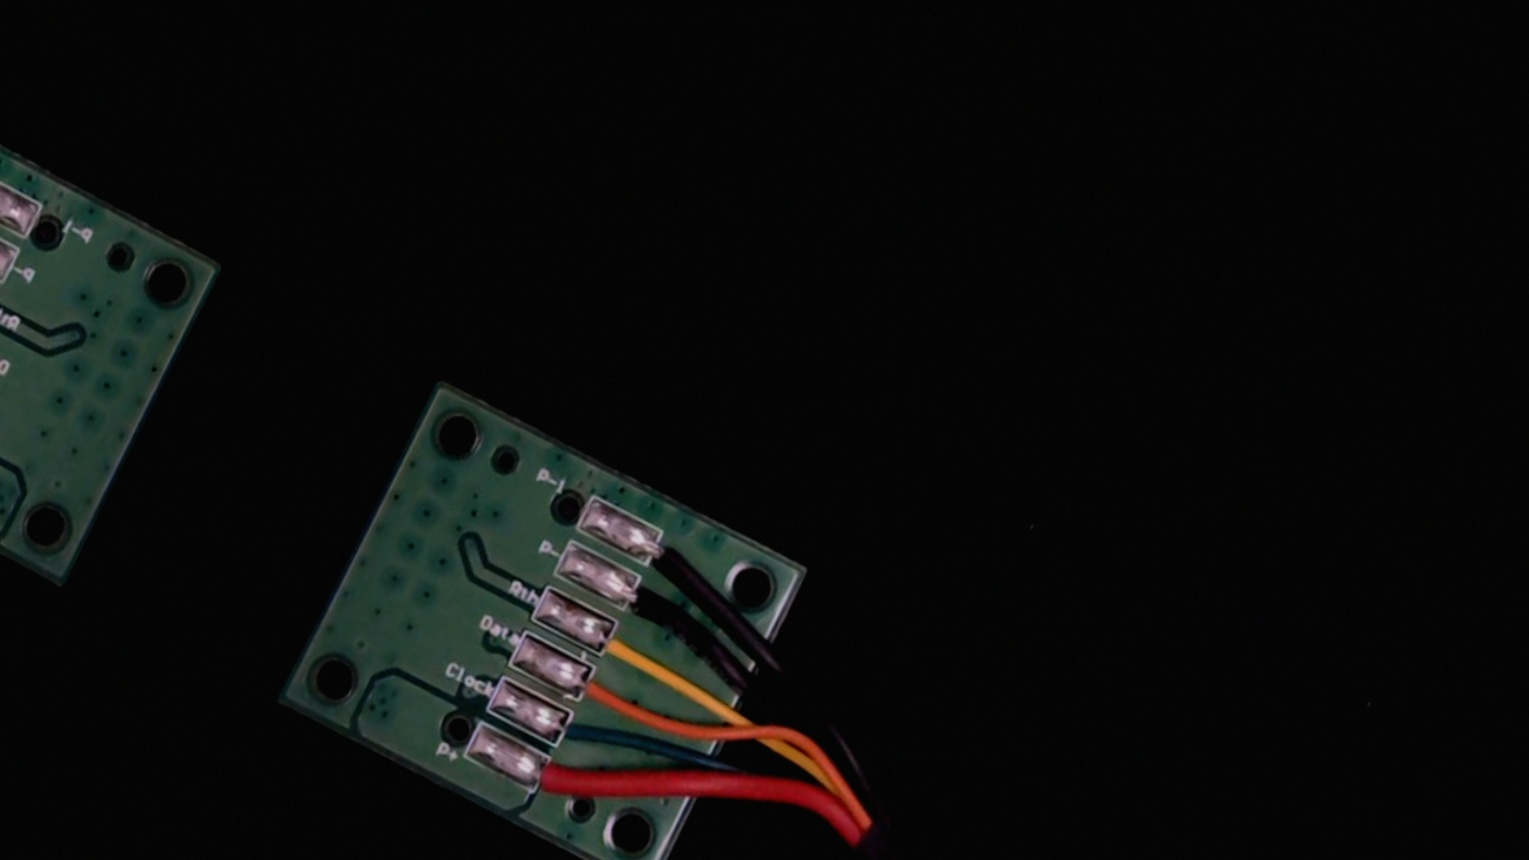Black: (605, 569, 704, 648)
Black1: (628, 522, 721, 600)
Green: (540, 700, 624, 773)
Orange: (559, 657, 647, 731)
Red: (515, 744, 606, 822)
Yellow: (581, 613, 675, 690)
